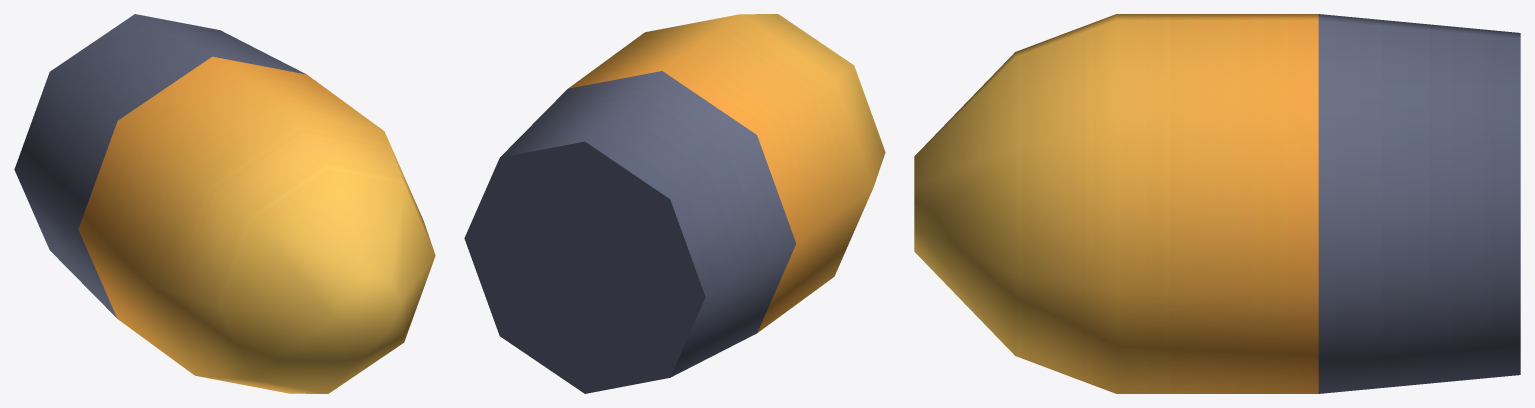
File: kenney-tower-defense-weapon-ammo-bullet.glb
The picture shows the model from 3 angles, left to right: view 1: azimuth 30°, elevation 25°; view 2: azimuth 150°, elevation 25°; view 3: azimuth 270°, elevation 25°; orthographic projection. The views are drawn at different scales.
Parts seen in each view (by area): view 1: weapon-ammo-bullet; view 2: weapon-ammo-bullet; view 3: weapon-ammo-bullet.
Boxes of the visible parts, x1,y1,x2,y2 form: weapon-ammo-bullet: (14,14,435,393); weapon-ammo-bullet: (464,14,885,393); weapon-ammo-bullet: (914,14,1520,393).
Bounding box in the file's own units: 0.2 × 0.2 × 0.3.
Materials: 1 (1 with a texture image).
